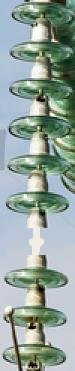gap: (4, 190, 72, 293)
